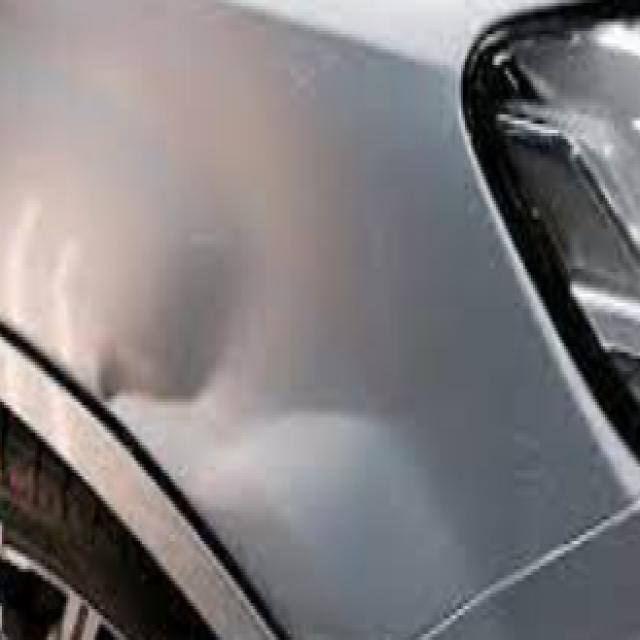dents: (80, 297, 256, 430)
